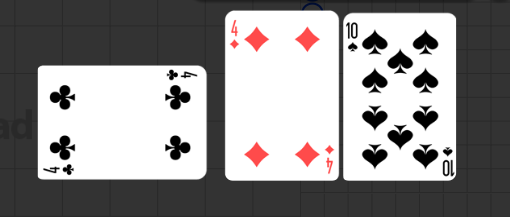10S: (441, 144, 455, 177)
4C: (42, 162, 77, 176)
4D: (228, 19, 241, 51)
